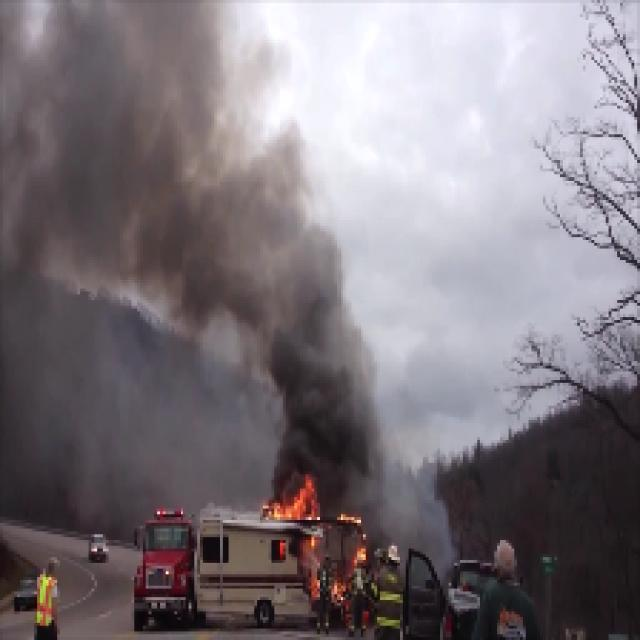smoke: (149, 182, 300, 311), (60, 46, 189, 170), (271, 312, 362, 463)
